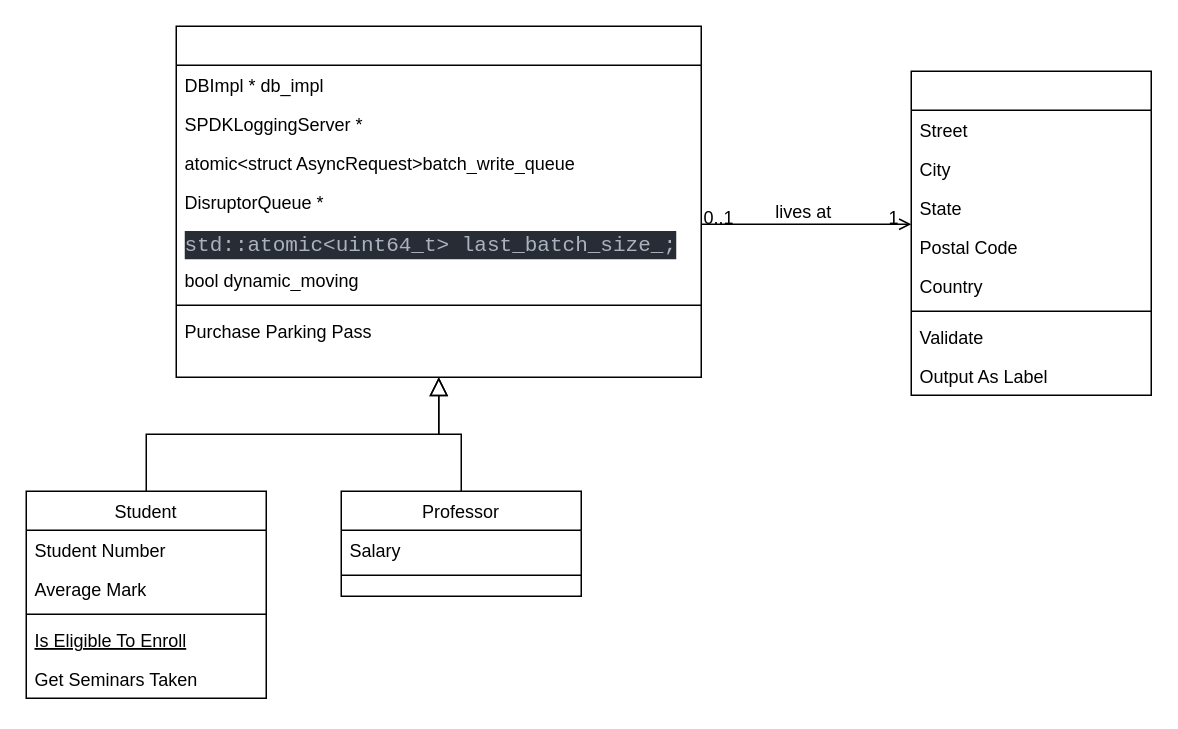
This 1178x729 diagram has some shape labels left out. The box of each missing label's shape, as (x1, y1, x2, y2) in pixels:
Address: (910, 70, 1151, 395)
Request_Scheduler: (175, 25, 701, 377)
